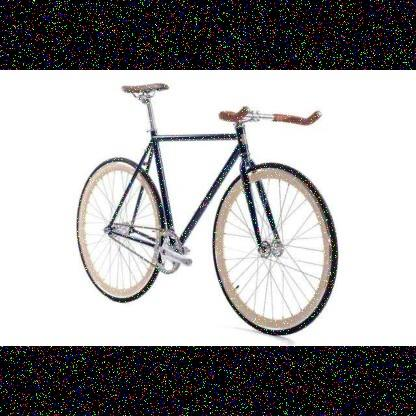Bicycle: (61, 82, 368, 342)
